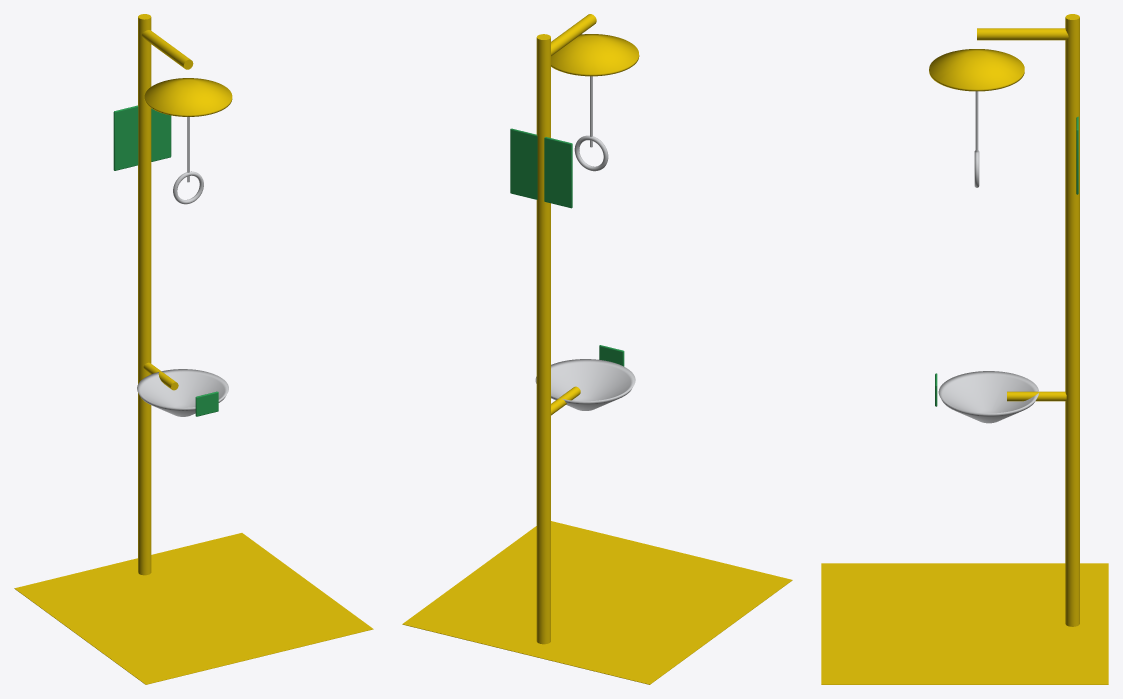
File: safety-shower.glb
3 views of the same model, side by side, from view 1: azimuth 30°, elevation 25°; view 2: azimuth 150°, elevation 25°; view 3: azimuth 270°, elevation 25° (orthographic). The views are drawn at different scales.
Parts seen in each view (by area): view 1: floor_marking, shower_pipe, eyewash_bowl, shower_head, safety_sign, shower_arm; view 2: floor_marking, shower_pipe, safety_sign, eyewash_bowl, shower_head, shower_arm; view 3: floor_marking, shower_pipe, eyewash_bowl, shower_head, shower_arm, eyewash_arm.
Part boxes in pixels (box(x1,y1,x2,y2)): floor_marking: box(14, 533, 373, 684); shower_pipe: box(138, 14, 151, 575); eyewash_bowl: box(137, 369, 228, 416); shower_head: box(144, 78, 232, 116); safety_sign: box(113, 105, 171, 170); shower_arm: box(141, 30, 193, 69); floor_marking: box(402, 521, 792, 684); shower_pipe: box(536, 34, 550, 644); safety_sign: box(510, 128, 572, 208); eyewash_bowl: box(535, 359, 635, 410); shower_head: box(551, 34, 639, 76); shower_arm: box(551, 14, 596, 55); floor_marking: box(821, 563, 1108, 684); shower_pipe: box(1065, 14, 1079, 626); eyewash_bowl: box(938, 371, 1038, 423); shower_head: box(929, 49, 1024, 91); shower_arm: box(977, 28, 1068, 40); eyewash_arm: box(1007, 391, 1066, 401).
Bounding box in the file's own units: 1.2 × 2.8 × 1.2.
